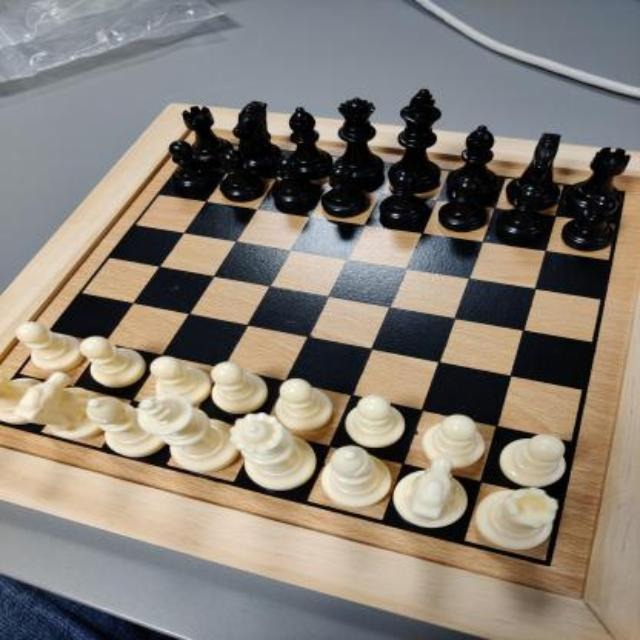black-bishop: (446, 124, 498, 193), (284, 107, 333, 177)
black-king: (389, 89, 441, 190)
black-knight: (506, 132, 561, 210), (232, 101, 282, 171)
black-pawn: (561, 194, 617, 252), (497, 186, 549, 242), (380, 169, 430, 227), (438, 177, 485, 231), (321, 163, 367, 218), (272, 155, 318, 209), (218, 150, 265, 202), (168, 140, 215, 190)
black-queen: (335, 97, 385, 183)
black-rook: (567, 147, 631, 208), (182, 106, 234, 161)
white-bishop: (87, 397, 165, 457), (323, 444, 389, 507)
white-king: (137, 394, 241, 474)
white-knight: (12, 371, 105, 438), (393, 456, 468, 528)
white-pawn: (78, 336, 145, 388), (499, 435, 566, 487), (15, 322, 82, 372), (421, 415, 484, 467), (148, 357, 211, 407), (345, 396, 405, 448), (211, 362, 267, 414), (276, 379, 332, 431)
white-queen: (232, 412, 318, 492)
white-rook: (475, 486, 558, 549)
